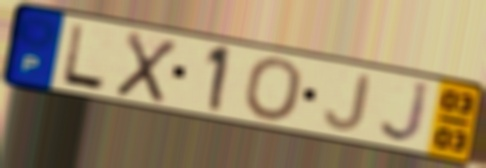1: (202, 43, 235, 115)
J: (378, 80, 433, 146), (321, 72, 374, 133)
L: (59, 21, 108, 94)
O: (241, 56, 306, 124)
X: (112, 28, 181, 106)
